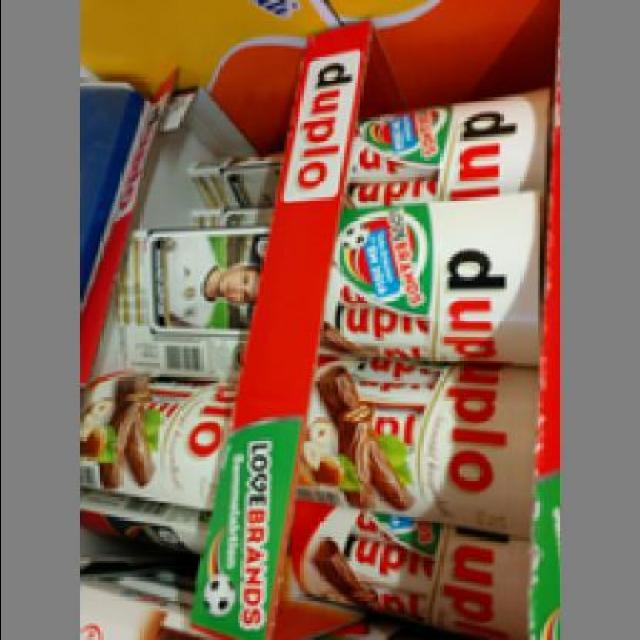Chocolate bar: (323, 194, 546, 363), (303, 360, 540, 506), (354, 83, 554, 203), (83, 366, 234, 494)
